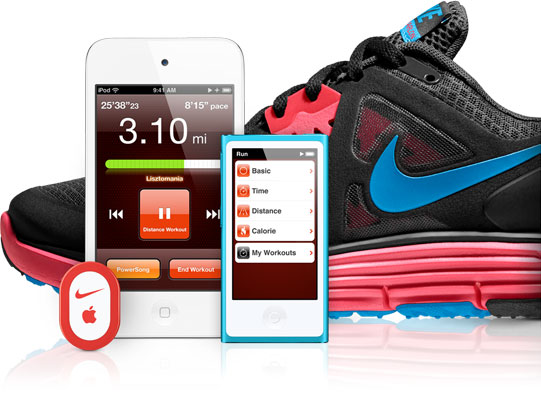Apple: (75, 305, 104, 331)
